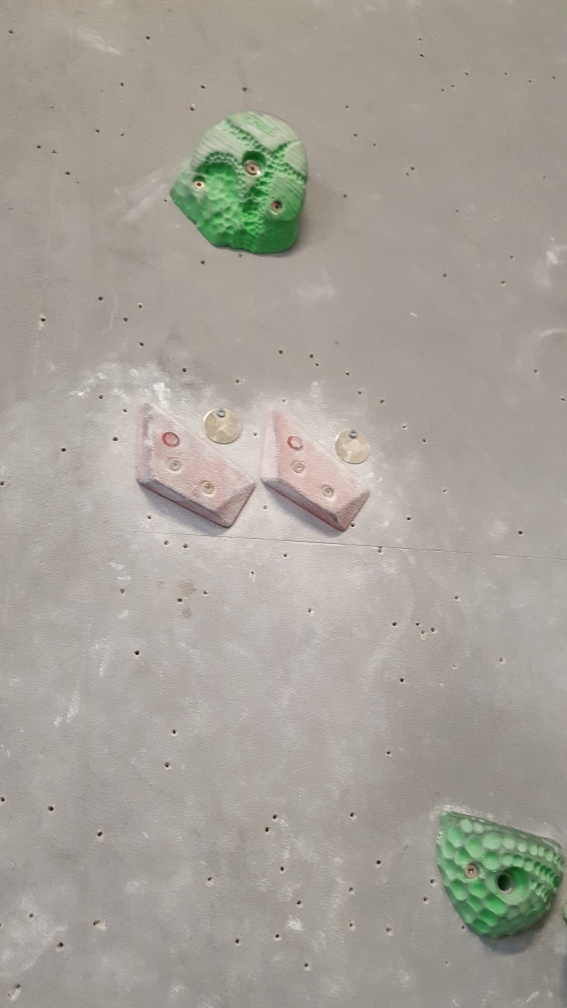Crimp: (137, 401, 257, 534), (262, 404, 371, 538)
Hand Start: (334, 423, 373, 465), (204, 404, 243, 445)
Jug: (171, 110, 314, 254)
